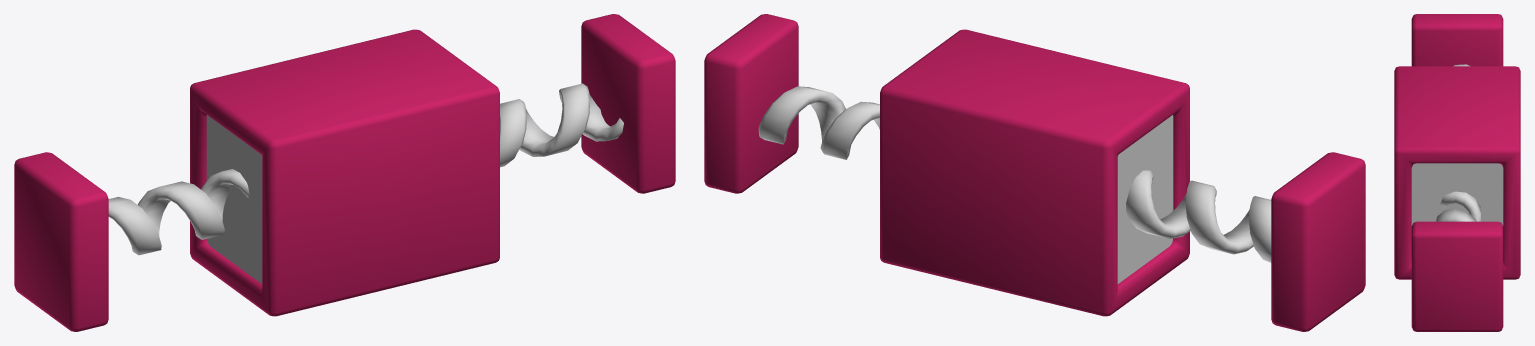
Rendered from spring_pink.fbx.
The picture shows the model from 3 angles, left to right: view 1: azimuth 30°, elevation 25°; view 2: azimuth 150°, elevation 25°; view 3: azimuth 270°, elevation 25°; orthographic projection. The views are drawn at different scales.
Visible parts, largest first — view 1: spring_pink_main, spring_pink_serve; view 2: spring_pink_main, spring_pink_serve; view 3: spring_pink_main, spring_pink_serve.
Part boxes in pixels (x1,y1,x2,y2): spring_pink_main: (190,29,499,316); spring_pink_serve: (14,14,675,331); spring_pink_main: (880,29,1189,316); spring_pink_serve: (704,14,1365,331); spring_pink_main: (1394,66,1520,279); spring_pink_serve: (1411,14,1503,331).
Size of the model in its own units: 0.8403 by 0.2341 by 0.2024.
